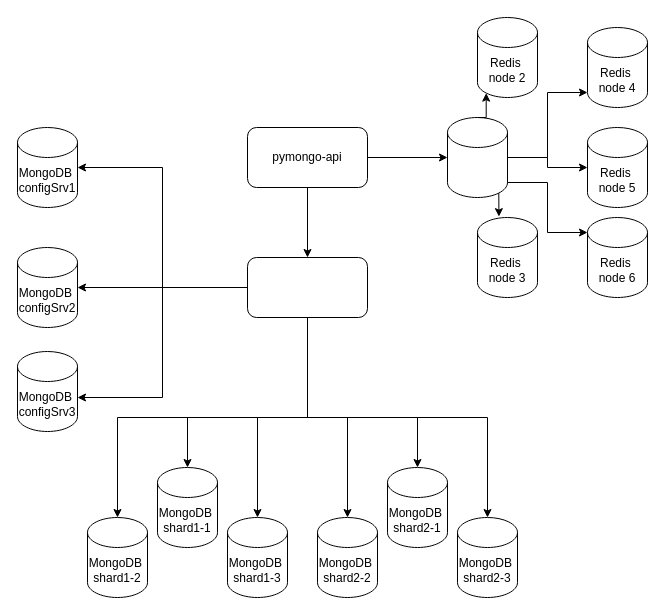
This 665x615 diagram has some shape labels left out. Each missing label, with the centre of its shape:
"mongos_router" goes at point 307,287.
"Redis node 1" goes at point 477,157.
